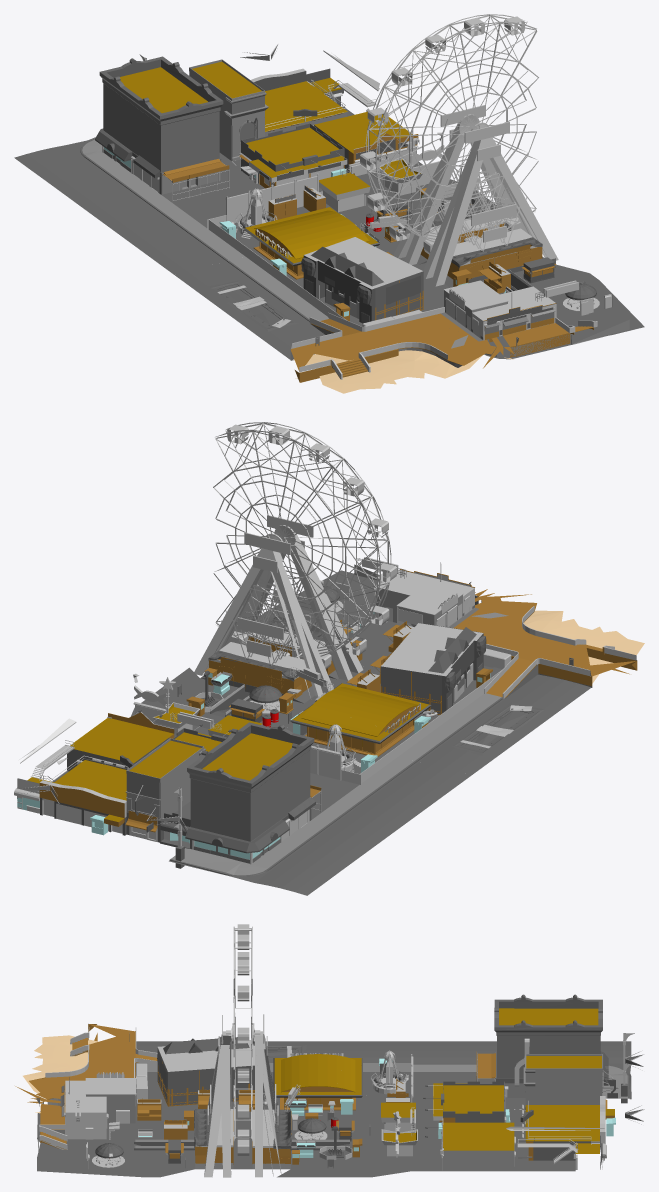
The model's file is brook_s_4.FBX.
3 renders of one model, top to bottom at view 1: azimuth 30°, elevation 25°; view 2: azimuth 150°, elevation 25°; view 3: azimuth 270°, elevation 25°, orthographic. The views are drawn at different scales.
Visible parts, largest first — view 1: unnamed, null; view 2: unnamed, null; view 3: unnamed, null.
Part boxes in pixels (box(x1,y1,x2,y2)): unnamed: box(174, 14, 644, 393); null: box(14, 54, 337, 316); unnamed: box(14, 422, 644, 843); null: box(150, 692, 483, 895); unnamed: box(15, 924, 644, 1177); null: box(304, 994, 643, 1114).
Size of the model in its own units: 71.84 by 52.32 by 133.
